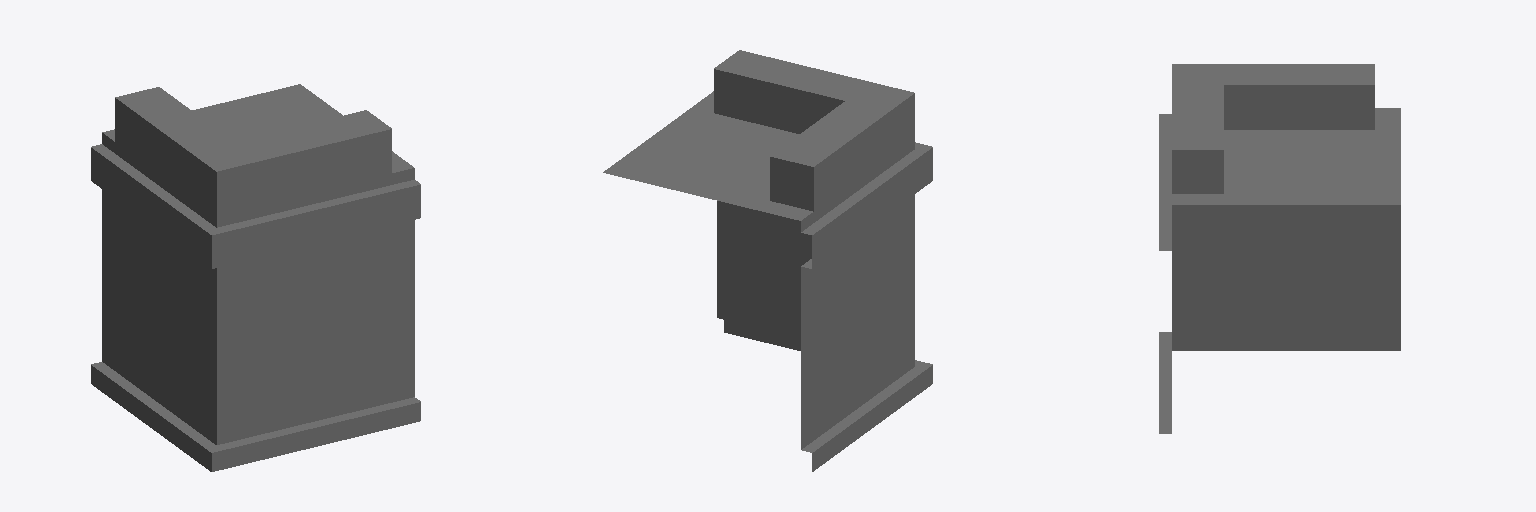
The model's file is wall_corner.obj.
3 renders of one model, left to right at view 1: azimuth 30°, elevation 25°; view 2: azimuth 150°, elevation 25°; view 3: azimuth 270°, elevation 25°, orthographic.
Visible parts, largest first — view 1: Claimed_[number redacted]; view 2: Claimed_[number redacted]; view 3: Claimed_[number redacted].
Boxes of the visible parts, <box> form: Claimed_[number redacted]: <box>91,84,420,471</box>; Claimed_[number redacted]: <box>603,50,932,471</box>; Claimed_[number redacted]: <box>1159,64,1400,433</box>.
Bounding box in the file's own units: 2.5 × 3.34 × 2.5.